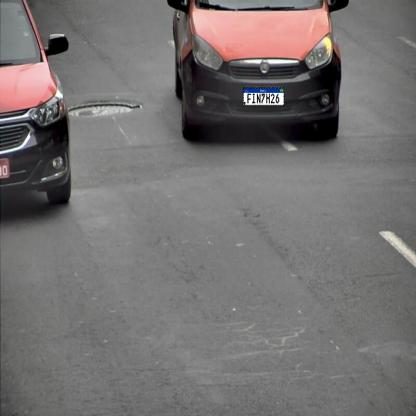PlacaM: (243, 87, 284, 106)
